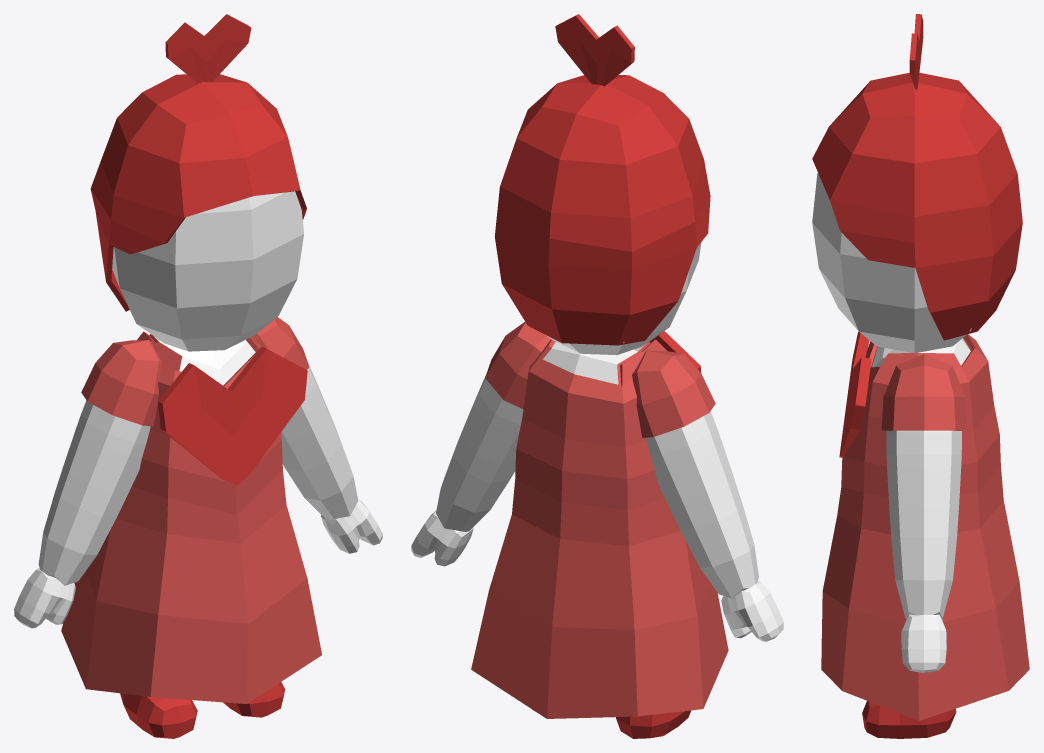
Rendered from Heart shape.fbx.
3 views of the same model, side by side, from view 1: azimuth 30°, elevation 25°; view 2: azimuth 150°, elevation 25°; view 3: azimuth 270°, elevation 25° (orthographic).
Parts seen in each view (by area): view 1: Heart candy; view 2: Heart candy; view 3: Heart candy.
Boxes of the visible parts, bbox=[...] form: Heart candy: bbox=[14, 14, 382, 738]; Heart candy: bbox=[411, 14, 783, 738]; Heart candy: bbox=[812, 14, 1029, 738].
Size of the model in its own units: 176 by 325 by 92.35.
